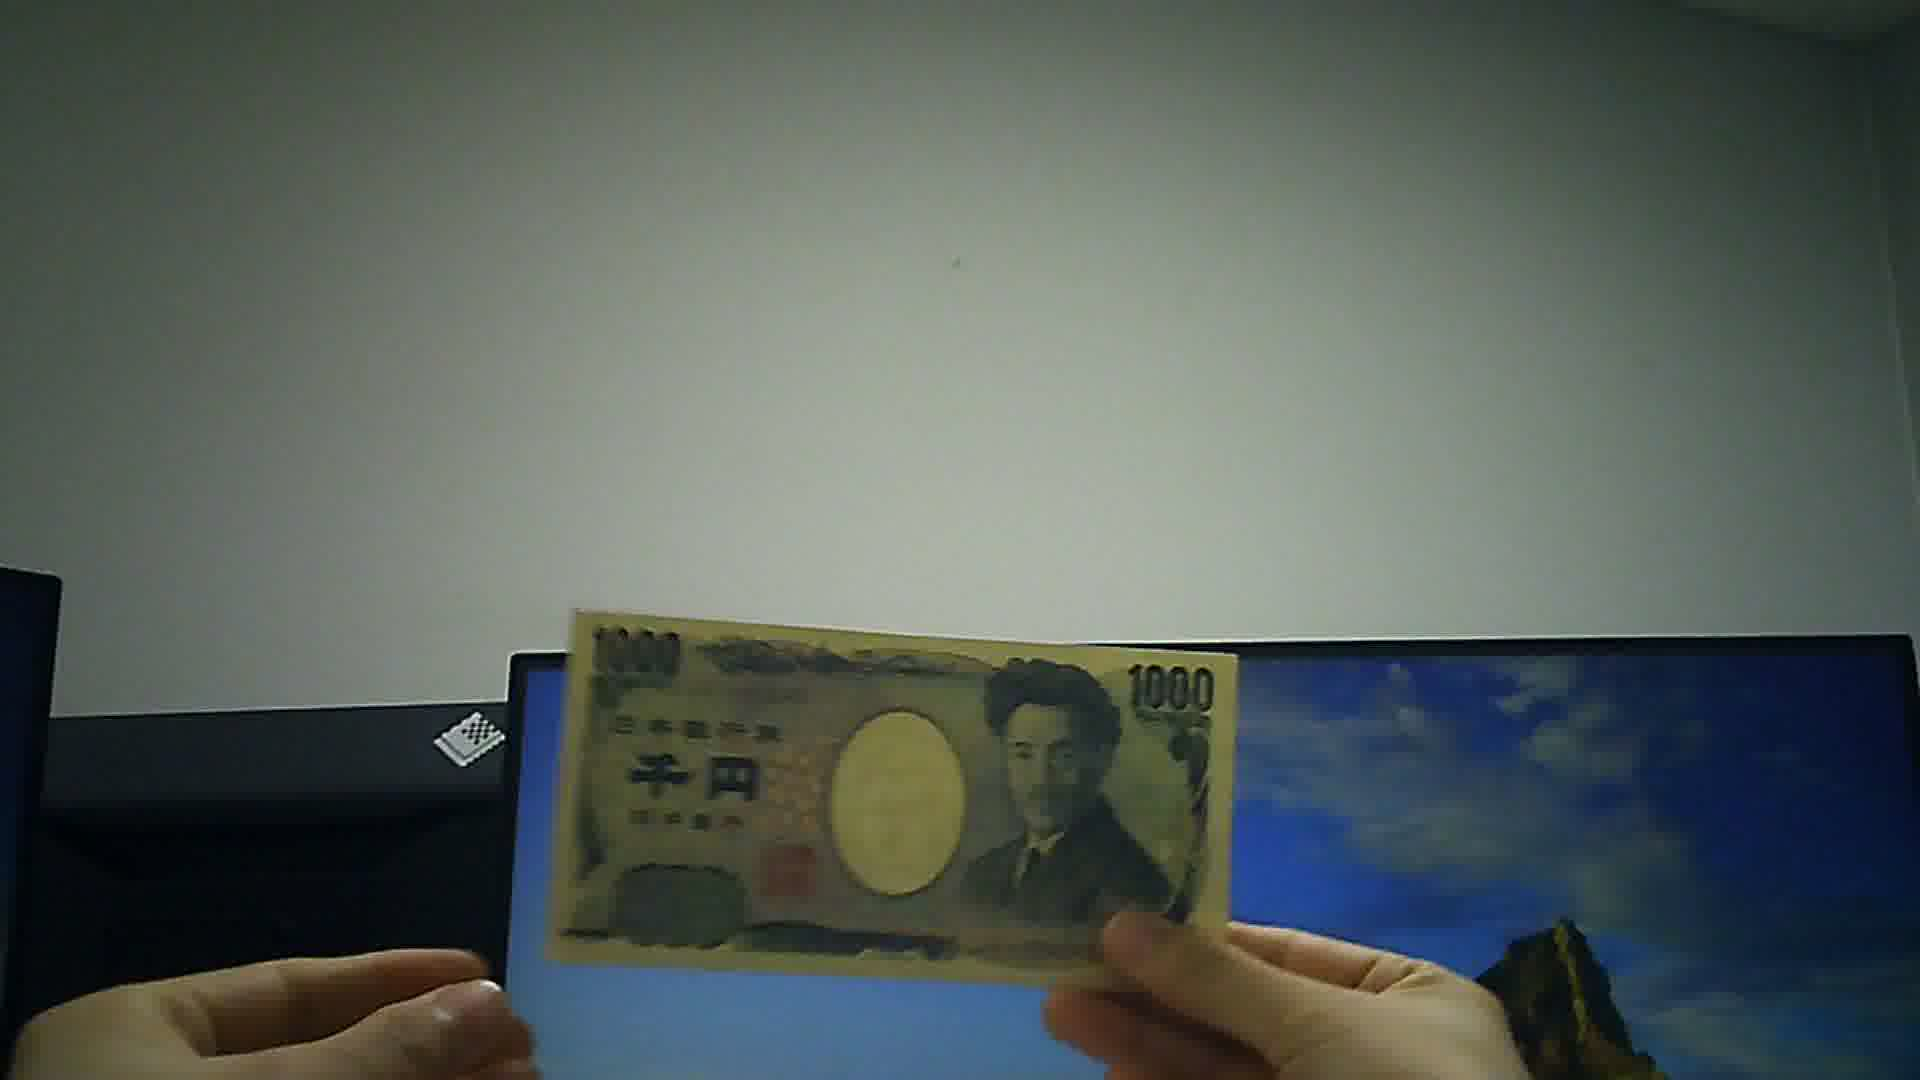1,000 Yen: (559, 603, 1244, 1005)
